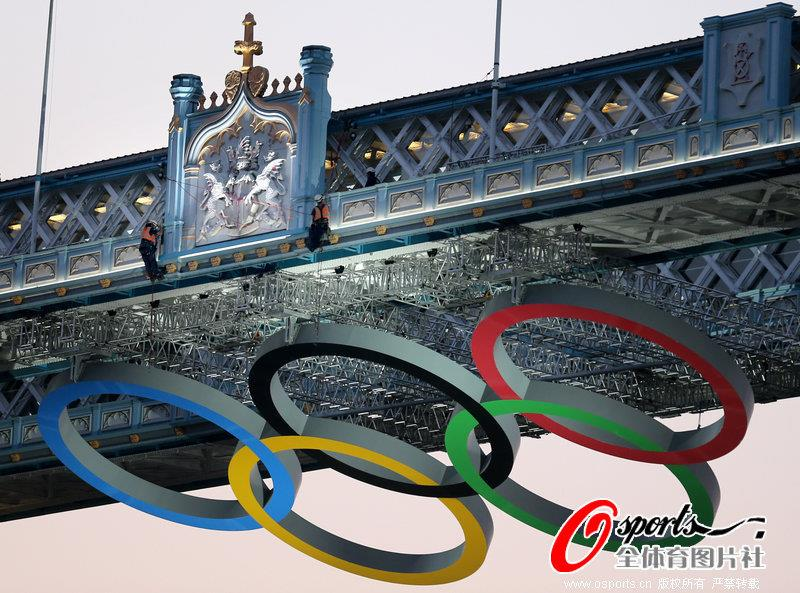Olympic_rings: (32, 277, 752, 586)
